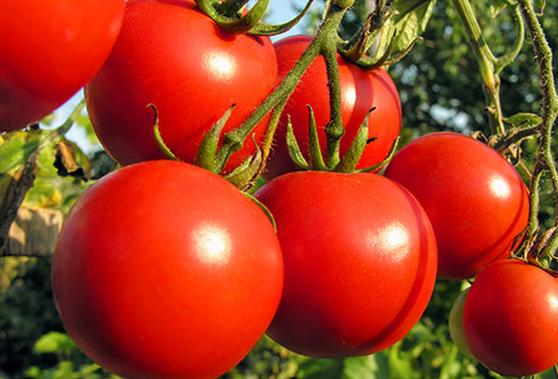tomato: (59, 149, 281, 364), (244, 145, 437, 355), (111, 1, 279, 169), (404, 109, 530, 281)
